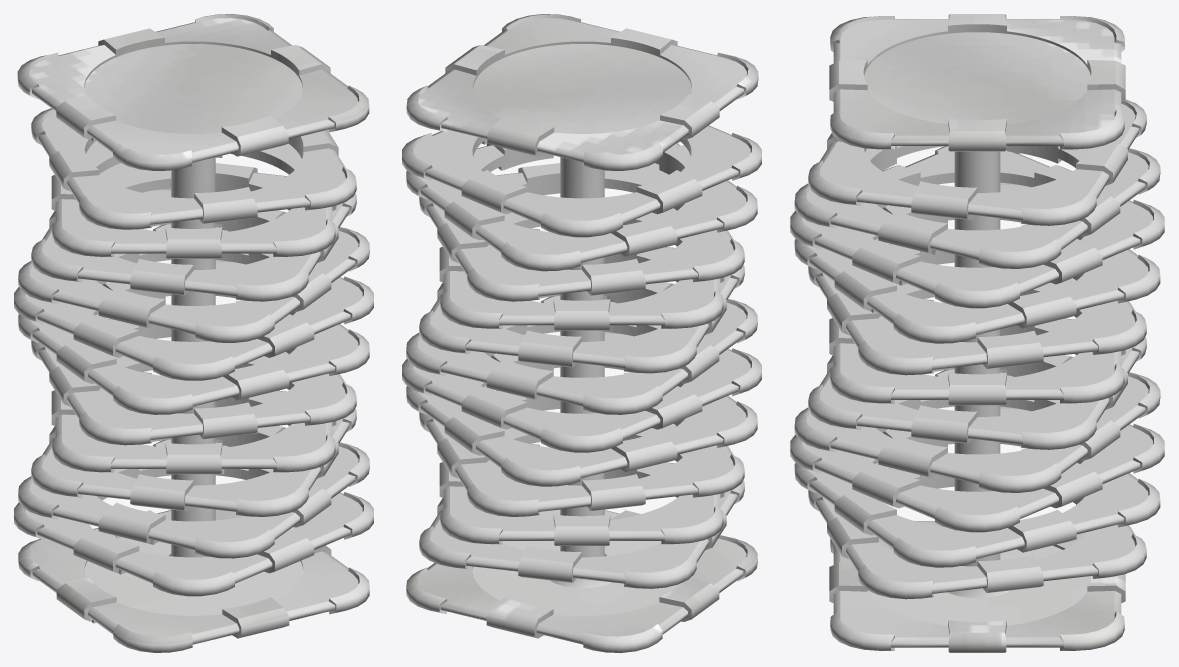
Rendered from SpinWheelPlatform.fbx.
3 views of the same model, side by side, from view 1: azimuth 30°, elevation 25°; view 2: azimuth 150°, elevation 25°; view 3: azimuth 270°, elevation 25° (orthographic). The views are drawn at different scales.
Parts seen in each view (by area): view 1: pCube281, pCube279, pCube275, pCube269, pCube274, pCube277, pCube276, pCube273, pCube270, pCube278, pCube272, pCube271; view 2: pCube281, pCube279, pCube278, pCube277, pCube273, pCube272, pCube271, pCube274, pCube276, pCube270, pCube269, pCube275; view 3: pCube281, pCube277, pCube271, pCube276, pCube270, pCube278, pCube279, pCube269, pCube275, pCube272, pCube274, pCube273.
Part boxes in pixels (x1,y1,x2,y2): pCube281: (17,14,369,652); pCube279: (31,108,356,229); pCube275: (14,224,373,380); pCube269: (14,439,373,596); pCube274: (18,260,369,414); pCube277: (31,163,356,301); pCube276: (18,188,369,342); pCube273: (31,300,356,445); pCube270: (18,425,369,558); pCube278: (51,141,336,258); pCube272: (51,352,336,474); pCube271: (31,372,356,516); pCube281: (406,14,758,652); pCube279: (402,125,761,237); pCube278: (406,143,757,271); pCube277: (419,163,744,301); pCube273: (402,296,761,452); pCube272: (406,332,757,486); pCube271: (419,372,744,516); pCube274: (406,282,757,414); pCube276: (439,208,724,330); pCube270: (439,423,724,545); pCube269: (419,444,744,588); pCube275: (419,228,744,373); pCube281: (829,14,1125,652); pCube277: (790,146,1164,308); pCube271: (790,369,1164,532); pCube276: (794,182,1160,343); pCube270: (794,406,1160,567); pCube278: (794,146,1160,268); pCube279: (808,99,1146,225); pCube269: (808,448,1146,599); pCube275: (808,224,1146,375); pCube272: (794,355,1160,492); pCube274: (829,278,1125,405); pCube273: (808,299,1146,449).
Bounding box in the file's own units: 681 × 1049 × 681.
2 materials, 1 textured.
